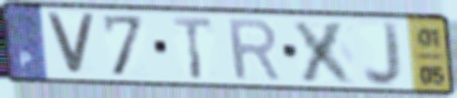7: (101, 12, 148, 79)
J: (361, 18, 405, 90)
R: (224, 16, 284, 83)
T: (169, 14, 216, 81)
V: (42, 10, 98, 79)
X: (288, 18, 360, 87)
